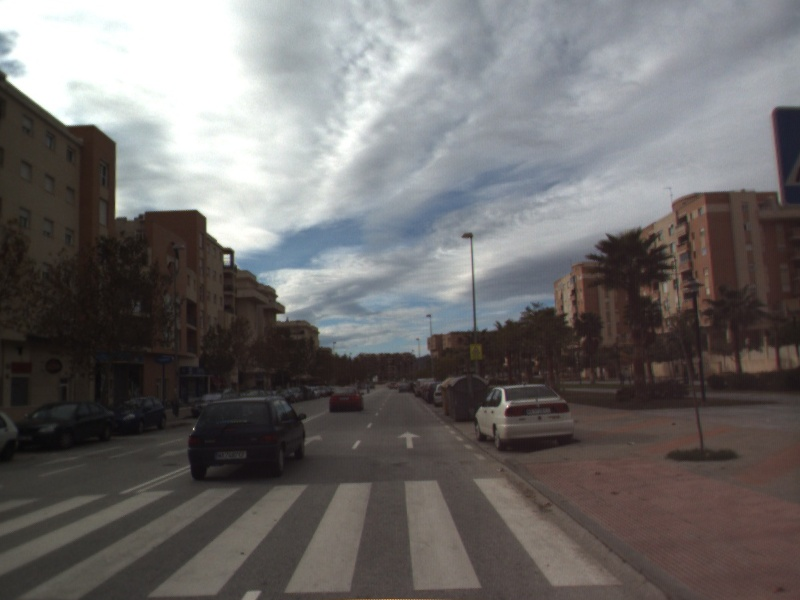STRAIGHT: (395, 429, 424, 450), (304, 432, 325, 446)
